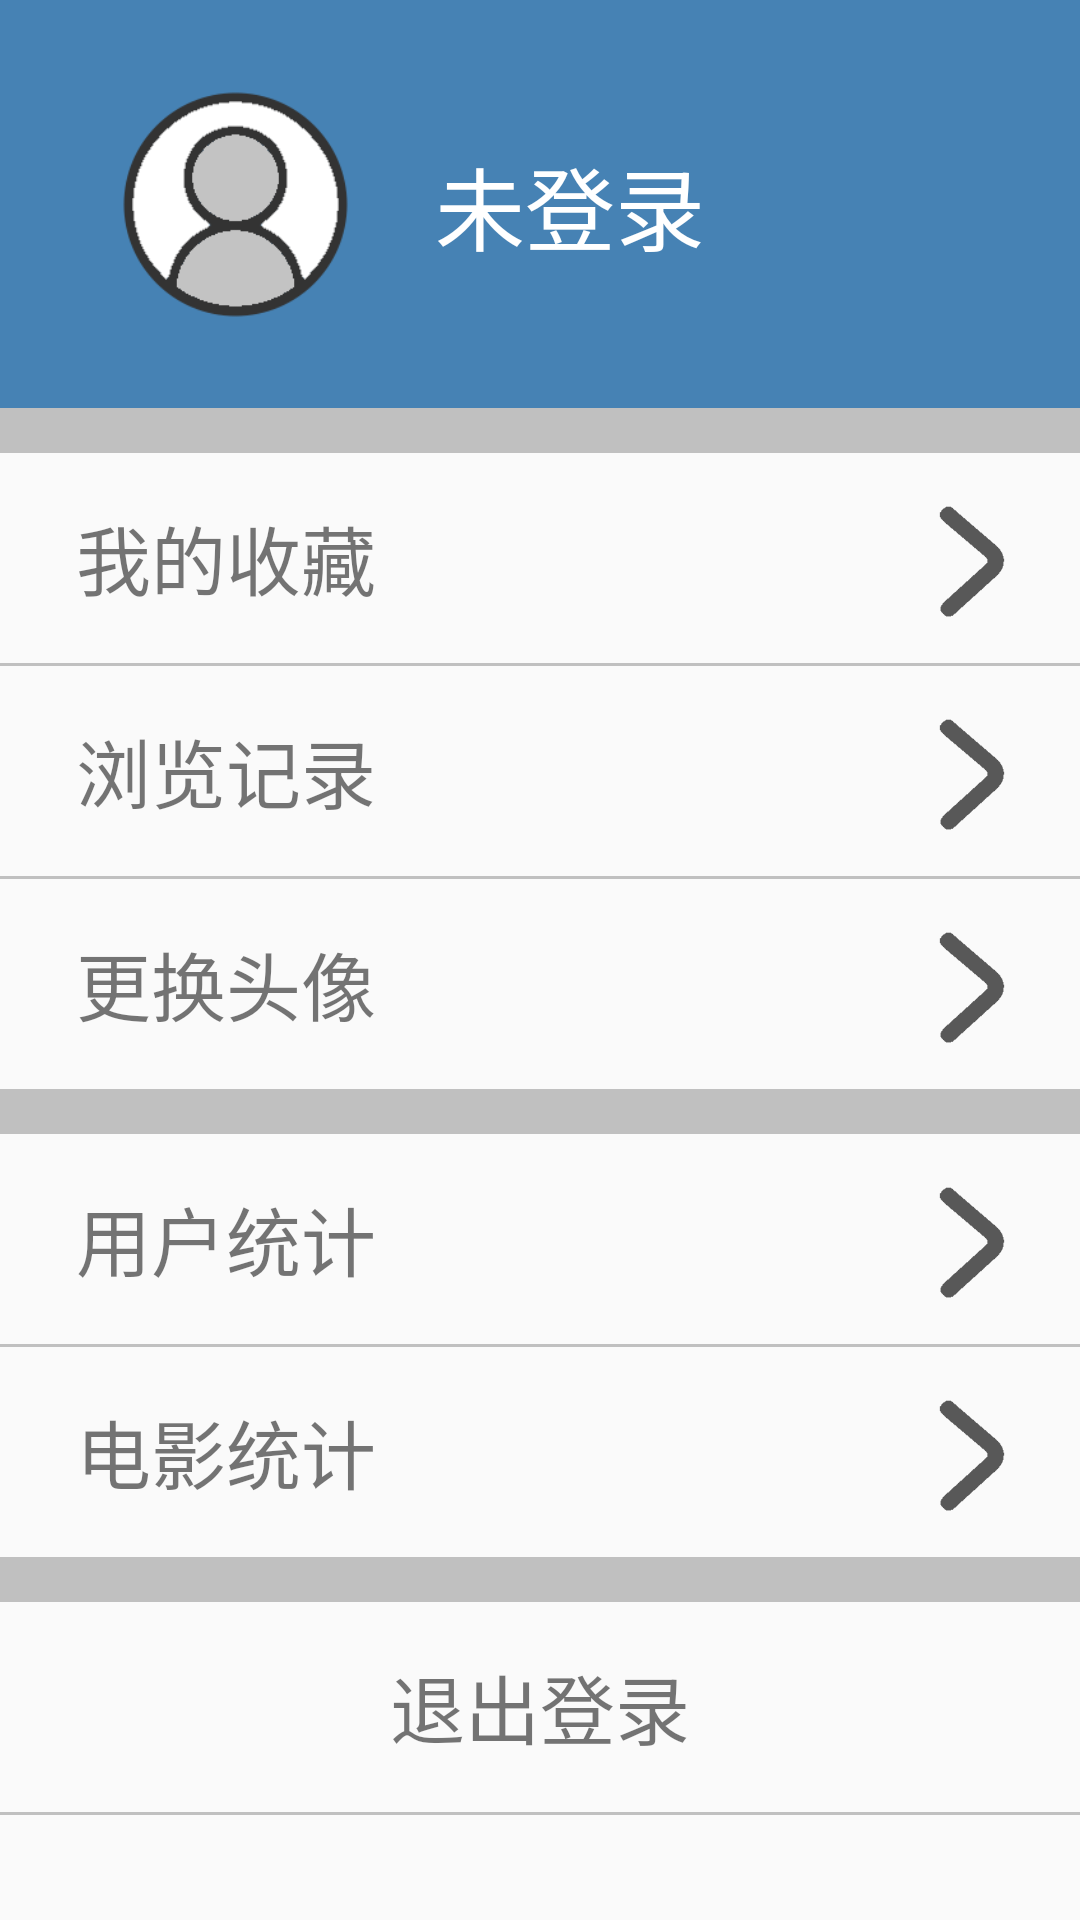

Icons on this 1080*1920 Android screen, each with the point to tap as (x,y):
arrow: (972,561), (972,774), (972,987), (972,1242), (972,1455)
guanyanren: (235,204)
